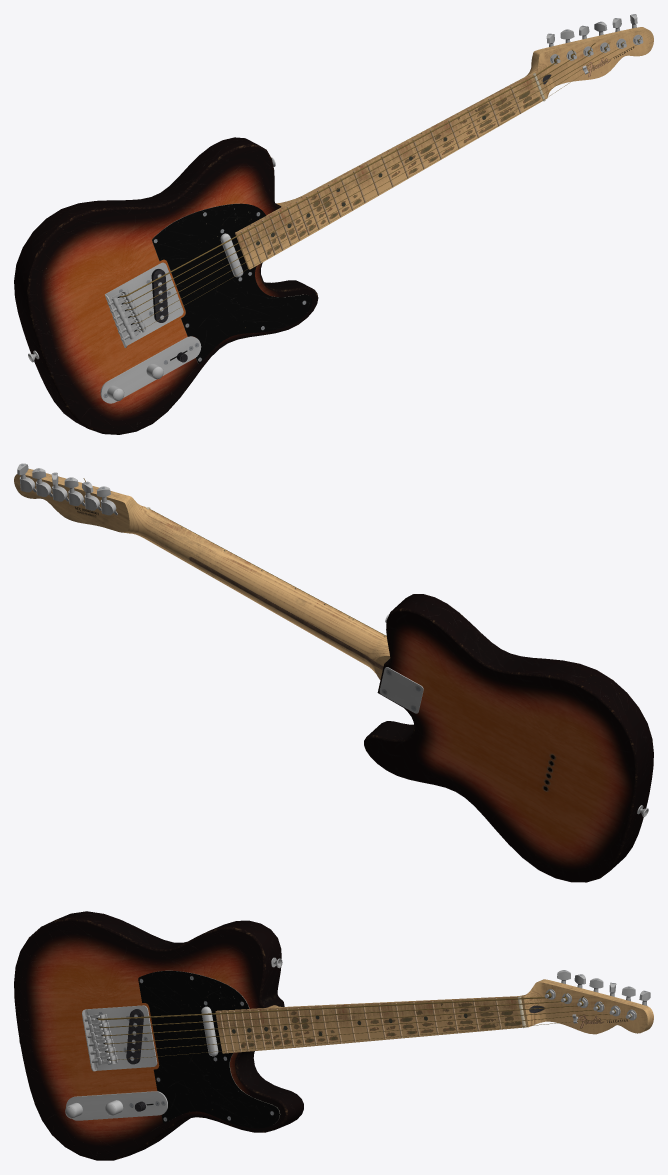
The model's file is telecaster_electric_guitar.glb.
3 views of the same model, one above another, from view 1: azimuth 30°, elevation 25°; view 2: azimuth 150°, elevation 25°; view 3: azimuth 330°, elevation 25° (orthographic). The views are drawn at different scales.
Visible parts, largest first — view 1: body_low_1; view 2: body_low_1; view 3: body_low_1.
Part boxes in pixels (x1=…): body_low_1: x1=14, y1=14, x2=653, y2=434; body_low_1: x1=14, y1=463, x2=653, y2=882; body_low_1: x1=14, y1=911, x2=653, y2=1160.
Size of the model in its own units: 0.975 by 0.4204 by 0.1037.
1 material, 1 textured.
